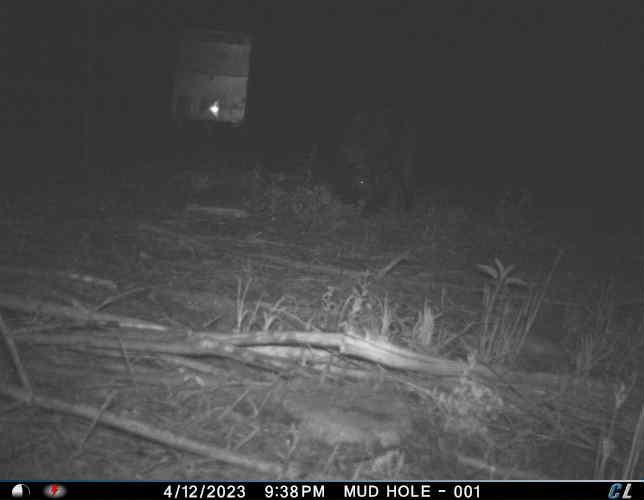Hog: (334, 95, 426, 216)
